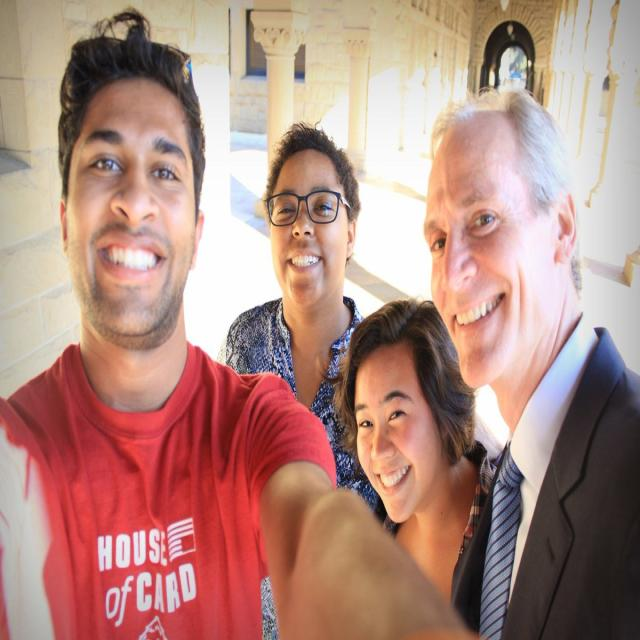body: (0, 6, 483, 640), (406, 73, 639, 639), (216, 118, 399, 640), (316, 294, 498, 613)
